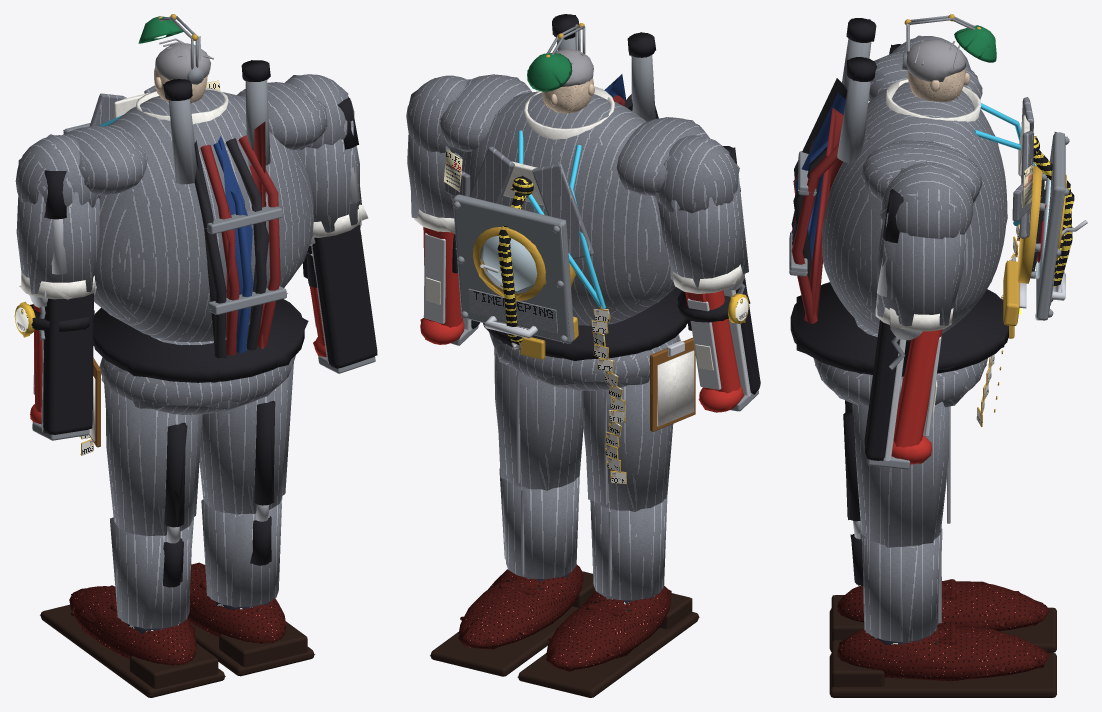
The model's file is c_overtime.glb.
3 views of the same model, side by side, from view 1: azimuth 30°, elevation 25°; view 2: azimuth 150°, elevation 25°; view 3: azimuth 270°, elevation 25° (orthographic). The views are drawn at different scales.
Visible parts, largest first — view 1: part_spine, part_kneeL, part_body, part_kneeR, part_spine__cables, part_legL, part_armL, part_foreL__gunL, part_legR, part_spine__lod, part_foreR__gunR, part_arm (+10 smaller); view 2: part_spine, part_kneeL, part_kneeR, part_spine__plate, part_body, part_armL, part_legR, part_spine__lod, part_legL, part_foreL__gunL, part_arm, part_foreR__gunR (+13 smaller); view 3: part_spine, part_kneeR, part_arm, part_body, part_foreR__gunR, part_legR, part_spine__lod, part_kneeL, part_spine__lod.001, part_head__head, part_kneeR__lod, part_spine__plate (+9 smaller).
Boxes of the visible parts, left/top/right/bottom form: part_spine: left=64, top=60, right=327, bottom=455; part_kneeL: left=40, top=519, right=224, bottom=697; part_body: left=89, top=299, right=304, bottom=447; part_kneeR: left=187, top=497, right=314, bottom=676; part_spine__cables: left=194, top=135, right=286, bottom=358; part_legL: left=105, top=390, right=199, bottom=543; part_armL: left=15, top=135, right=100, bottom=299; part_foreL__gunL: left=15, top=284, right=95, bottom=440; part_legR: left=199, top=376, right=288, bottom=521; part_spine__lod: left=62, top=60, right=327, bottom=339; part_foreR__gunR: left=309, top=216, right=377, bottom=373; part_arm: left=285, top=74, right=360, bottom=237; part_spine: left=440, top=14, right=709, bottom=484; part_kneeL: left=518, top=497, right=698, bottom=697; part_kneeR: left=430, top=474, right=595, bottom=676; part_spine__plate: left=453, top=194, right=574, bottom=343; part_body: left=483, top=289, right=695, bottom=431; part_armL: left=655, top=135, right=745, bottom=293; part_legR: left=494, top=348, right=583, bottom=489; part_spine__lod: left=440, top=15, right=707, bottom=472; part_legL: left=582, top=379, right=673, bottom=510; part_foreL__gunL: left=677, top=275, right=760, bottom=412; part_arm: left=406, top=75, right=468, bottom=232; part_foreR__gunR: left=420, top=227, right=479, bottom=345; part_spine: left=822, top=18, right=1046, bottom=426; part_kneeR: left=829, top=533, right=1056, bottom=697; part_arm: left=875, top=162, right=973, bottom=331; part_body: left=790, top=282, right=1014, bottom=406; part_foreR__gunR: left=864, top=320, right=942, bottom=469; part_legR: left=844, top=403, right=950, bottom=546; part_spine__lod: left=822, top=18, right=1044, bottom=346; part_kneeL: left=829, top=527, right=1056, bottom=652; part_spine__lod.001: left=789, top=78, right=847, bottom=323; part_head__head: left=902, top=14, right=996, bottom=102; part_kneeR__lod: left=830, top=528, right=1056, bottom=694; part_spine__plate: left=1036, top=132, right=1069, bottom=320.
Bounding box in the file's own units: 1.13 × 2 × 0.8411.
34 materials, 10 textured.
